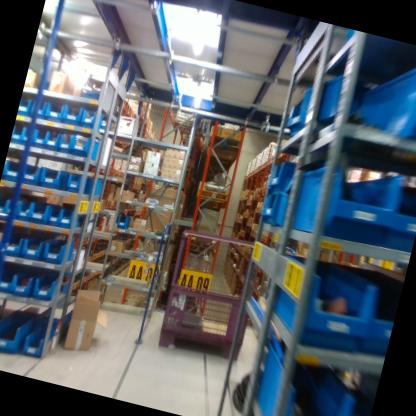pallet: (124, 98, 133, 113), (128, 107, 136, 118), (122, 96, 129, 108), (108, 198, 116, 208), (103, 199, 110, 209)
stillage: (144, 214, 272, 373)
